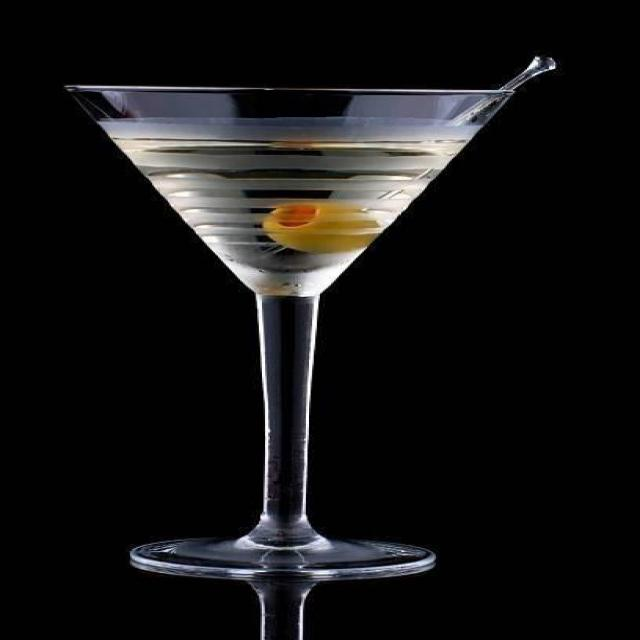glass-wine: (60, 81, 530, 582)
